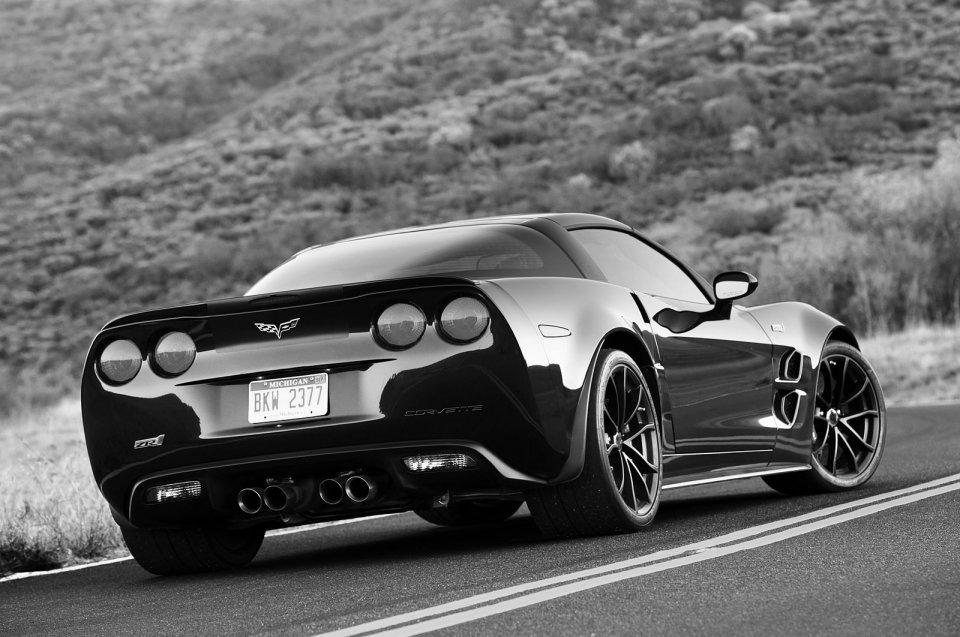car: (79, 213, 885, 576)
